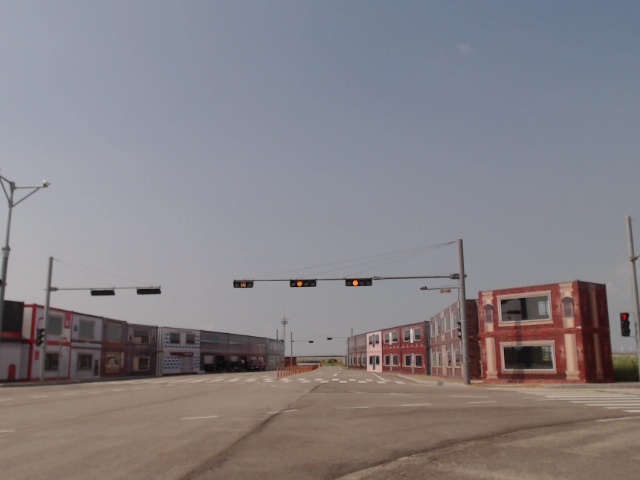orange_4: (343, 277, 374, 288), (289, 278, 317, 289)
